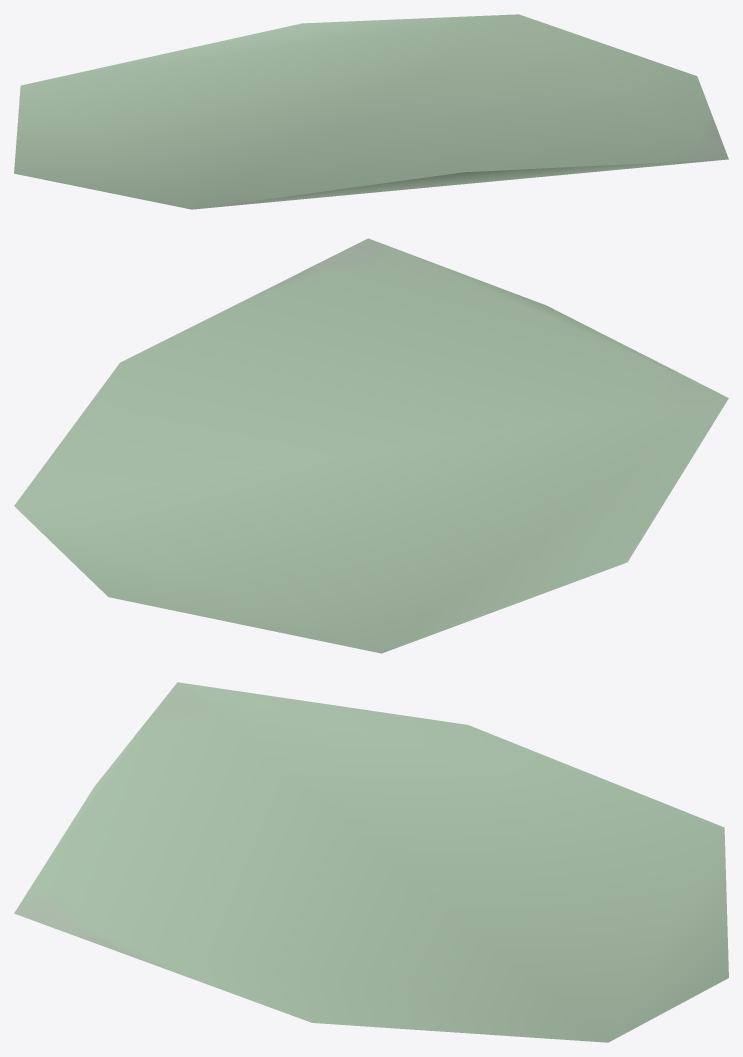
Rendered from TROLLHOLE02_HOLECAP94.fbx.
3 views of the same model, one above another, from view 1: azimuth 30°, elevation 25°; view 2: azimuth 150°, elevation 25°; view 3: azimuth 270°, elevation 25° (orthographic). The views are drawn at different scales.
Parts seen in each view (by area): view 1: TROLLHOLE02_HOLECAP94; view 2: TROLLHOLE02_HOLECAP94; view 3: TROLLHOLE02_HOLECAP94.
Part boxes in pixels (x1=…): TROLLHOLE02_HOLECAP94: x1=14, y1=14, x2=728, y2=209; TROLLHOLE02_HOLECAP94: x1=14, y1=238, x2=728, y2=653; TROLLHOLE02_HOLECAP94: x1=14, y1=682, x2=728, y2=1042.
Bounding box in the file's own units: 19087 × 3434 × 19022.
1 material, 1 textured.
